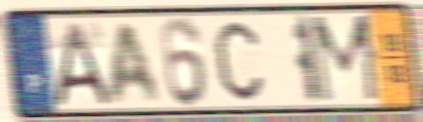1: (290, 12, 324, 108)
6: (159, 13, 210, 111)
A: (50, 19, 113, 109), (107, 19, 164, 106)
C: (211, 18, 266, 104)
M: (308, 11, 384, 107)
